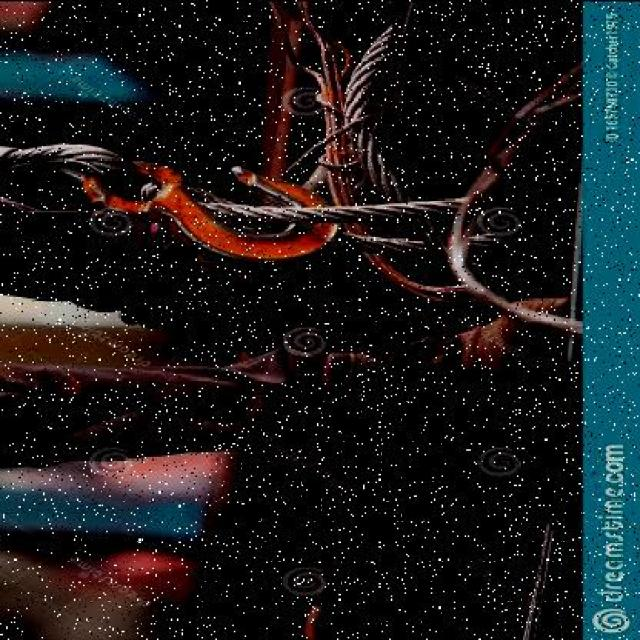shoes: (116, 150, 347, 358), (326, 294, 571, 466)
